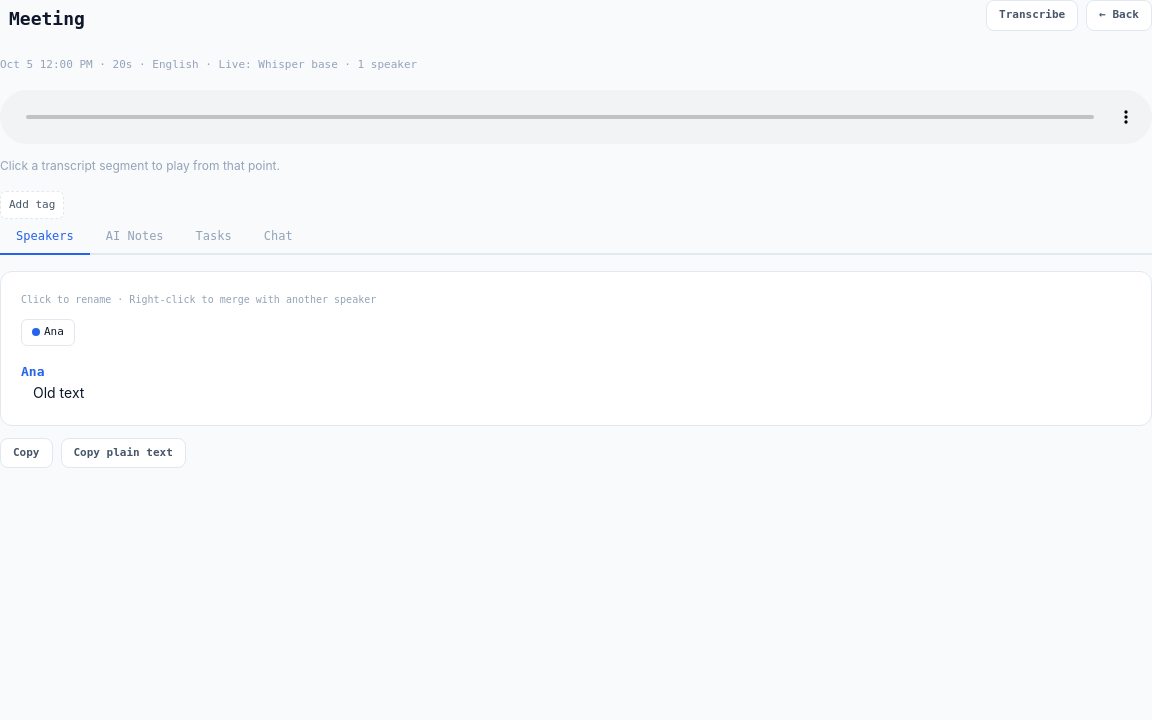
Scenario: manual transcription sends chosen model/language and stages final draft while preserving accepted text, notes, audio and manual names
Click the button "Transcribe" at (1032, 15), box 986,0 -> 1078,30
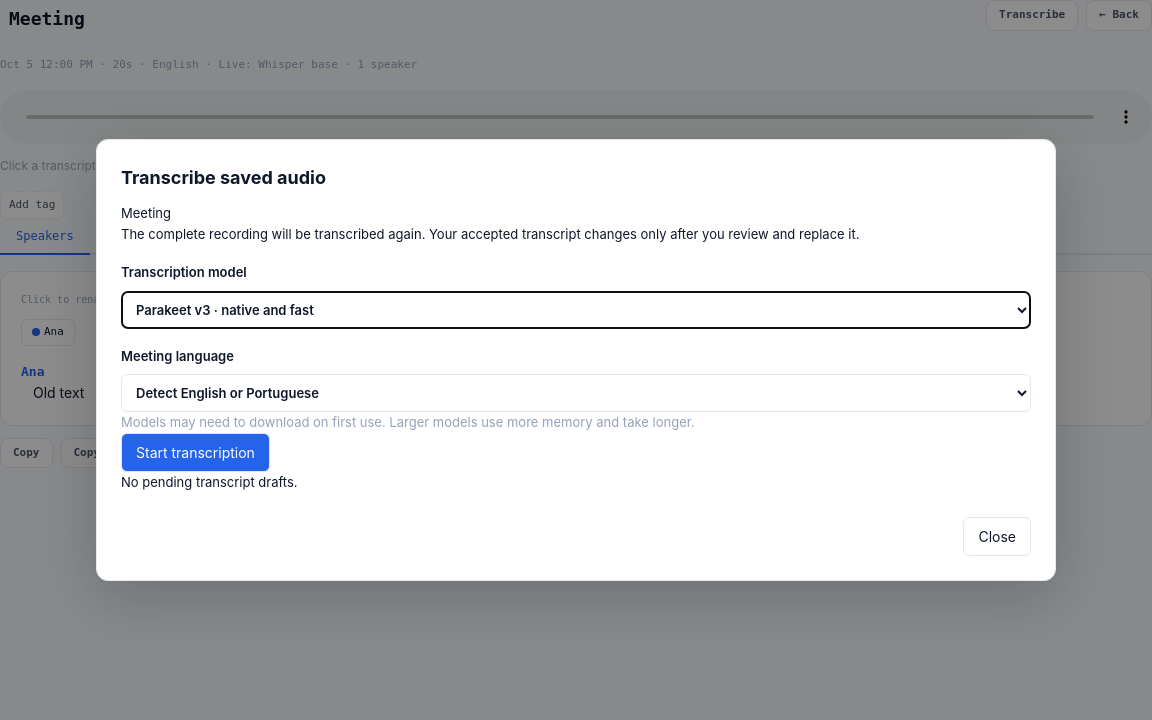
Select "Whisper small" in the dropdown labelled "Transcription model" at (576, 310), box 121,290 -> 1031,328
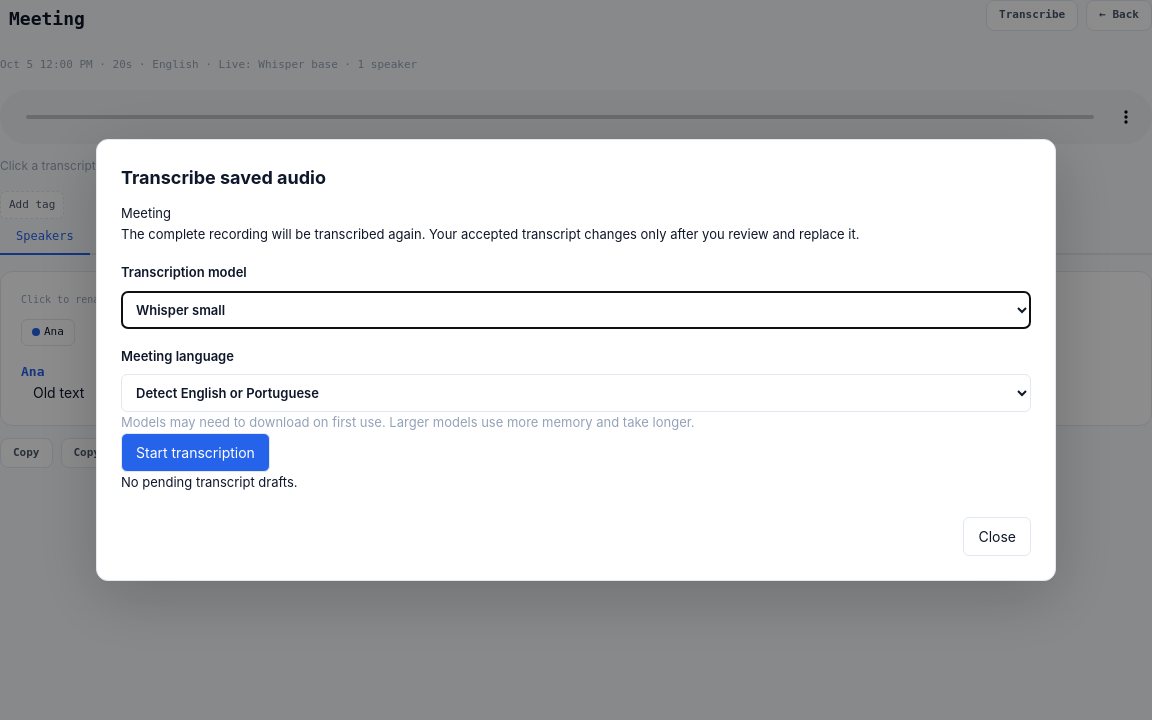
Select "Portuguese (Brazil)" in the dropdown labelled "Meeting language" at (576, 393), box 121,374 -> 1031,412
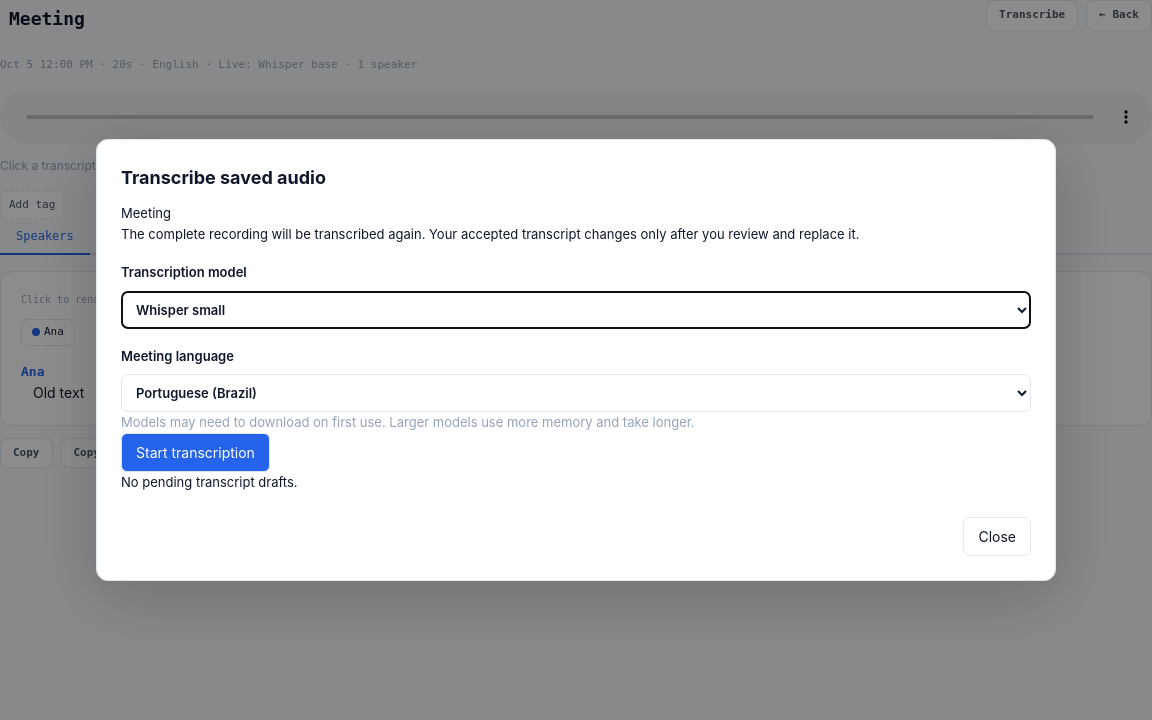
Click the button "Start transcription" at (195, 452), box 121,433 -> 270,472
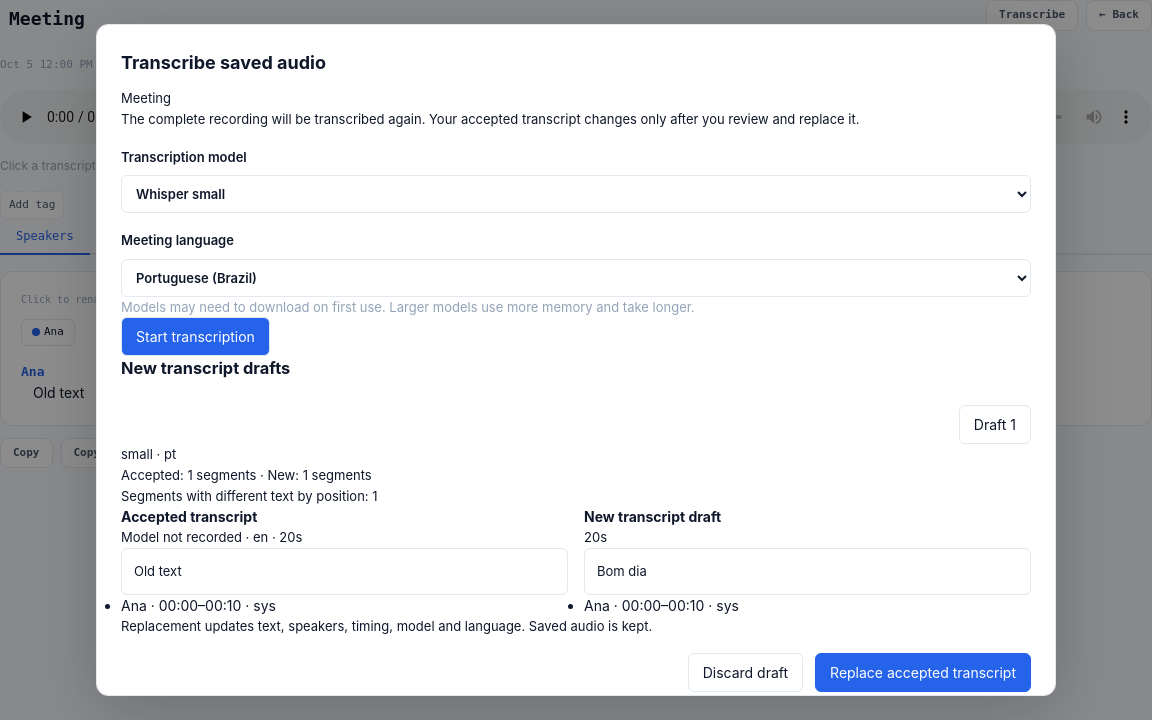
Expected: the button "Replace accepted transcript" is shown, 815,653 -> 1031,692
Expected: the text "Old text" is shown, 121,548 -> 568,595
